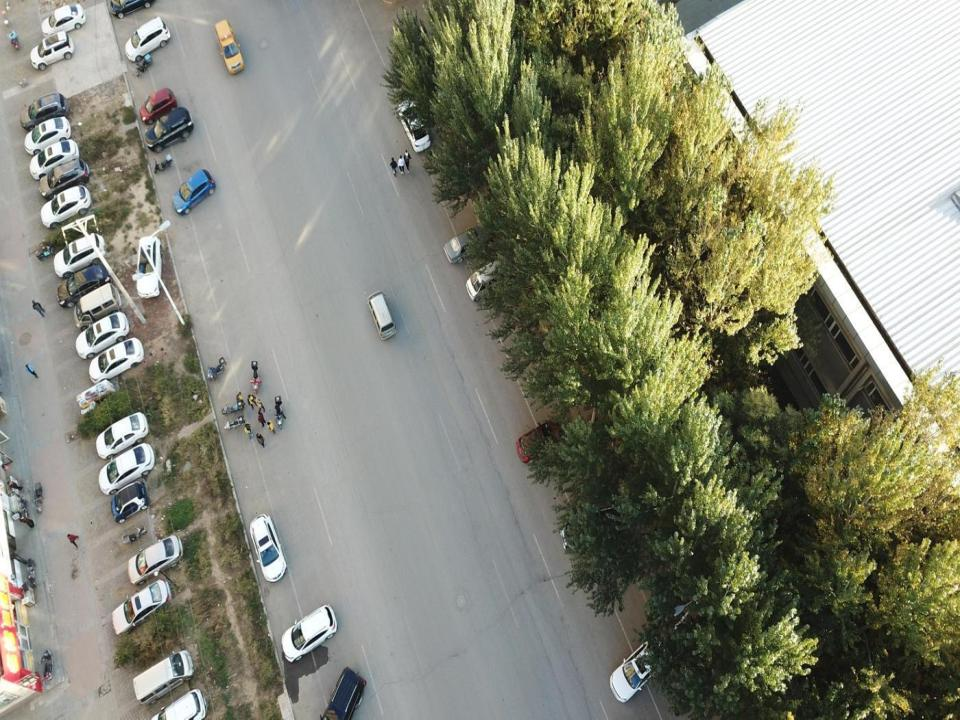car: (112, 578, 171, 640), (281, 605, 336, 670), (126, 533, 183, 589), (611, 642, 662, 704), (100, 441, 154, 498), (88, 337, 142, 390), (96, 412, 148, 466), (77, 311, 128, 366), (321, 664, 370, 719), (249, 515, 287, 584), (58, 263, 106, 313), (40, 158, 88, 207), (55, 230, 105, 277), (41, 184, 91, 231), (146, 104, 191, 155), (30, 139, 80, 184), (123, 16, 169, 63), (25, 114, 70, 160), (517, 420, 564, 463), (40, 2, 86, 45), (562, 510, 607, 553), (172, 172, 214, 218), (30, 29, 76, 71), (136, 234, 166, 298), (445, 227, 492, 265), (399, 100, 429, 158), (148, 690, 208, 719), (21, 95, 68, 130), (109, 483, 149, 523), (214, 19, 242, 72), (140, 85, 174, 126)
van: (131, 648, 195, 710), (73, 281, 120, 328), (467, 258, 513, 298), (368, 291, 396, 342)
